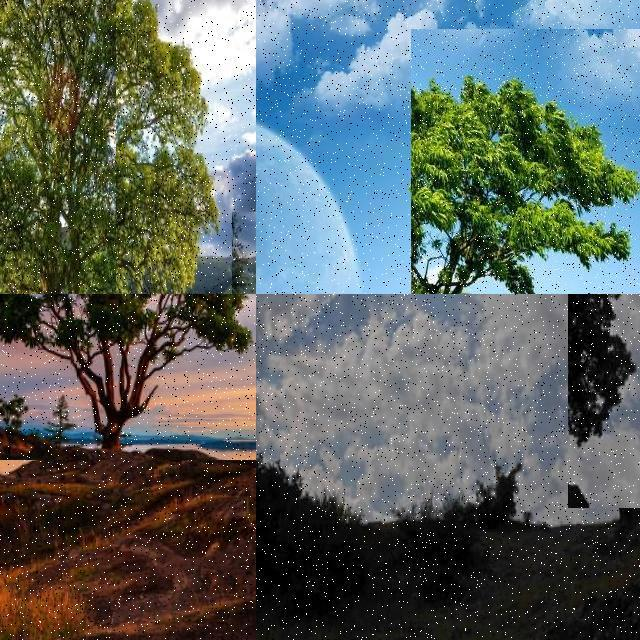tree: (1, 0, 220, 294), (411, 29, 640, 294), (0, 294, 256, 460), (0, 0, 116, 294), (568, 294, 640, 508), (232, 212, 256, 294), (0, 234, 32, 294)
